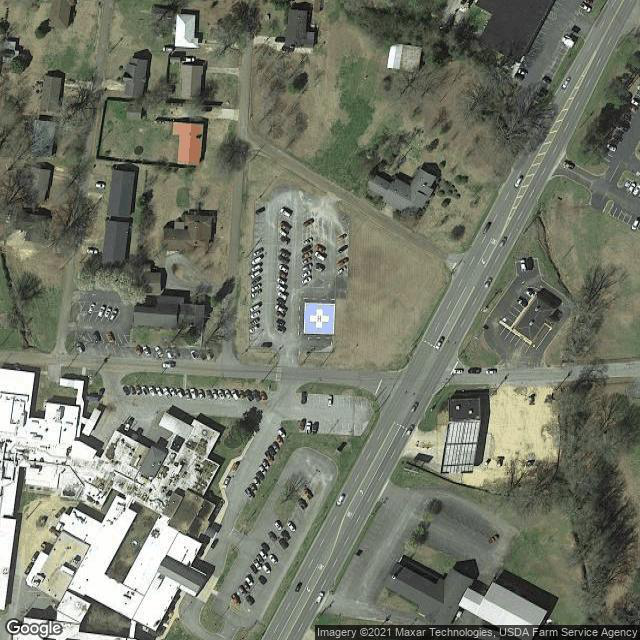Helipad: (302, 300, 338, 337)
